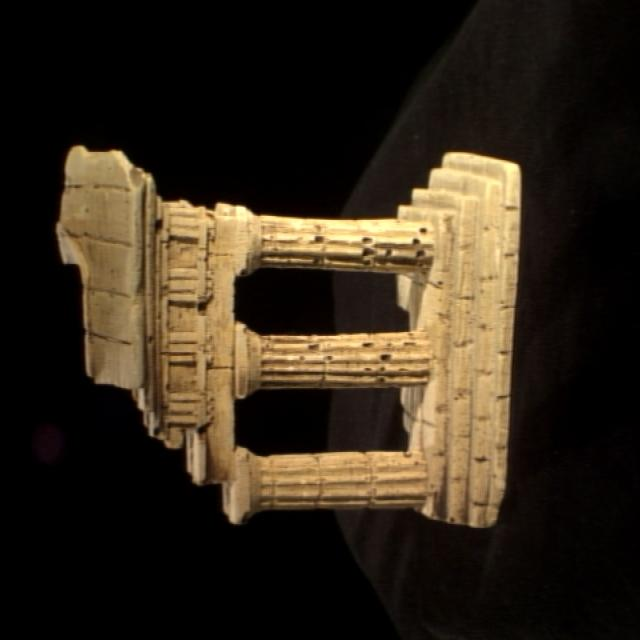Instance-Segmentation: (57, 147, 520, 525)
